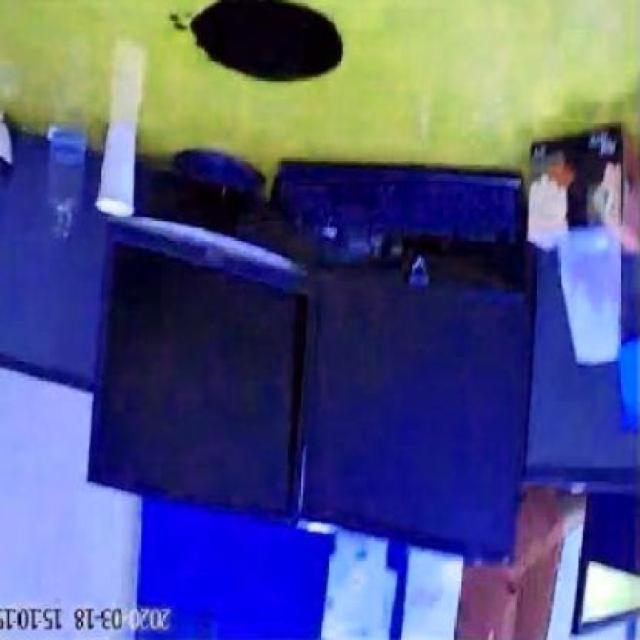spillage: (171, 0, 345, 82)
